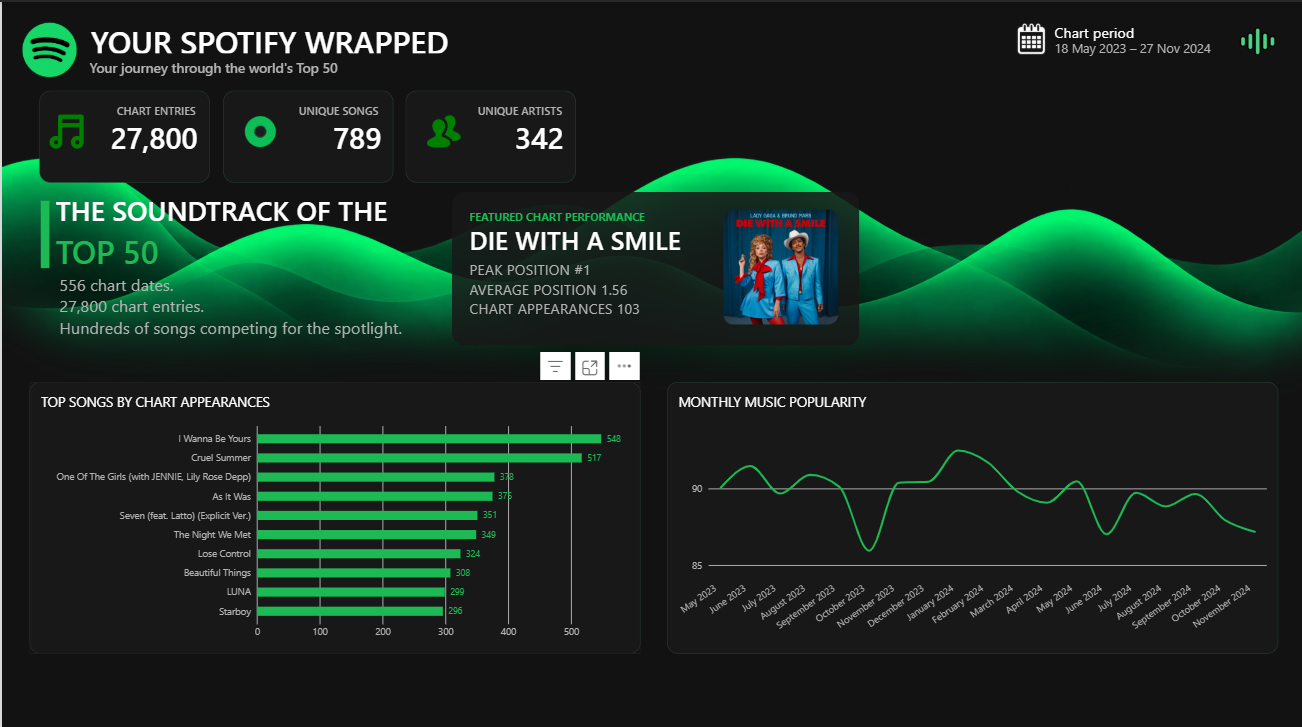

What the dashboard file says about the page in this screenshot:
{"tool":"powerbi","page":{"name":"Spotify Wrapped","canvas":[1920,1080],"ordinal":0},"visuals":[{"type":"image","box":[0,14.7,1919.6,649.7],"z":0},{"type":"textbox","title":"YOUR SPOTIFY WRAPPED","box":[130,28,650,48],"z":1000},{"type":"textbox","title":"Your journey through the world''s Top 50","box":[129.6,83.3,600,27.8],"z":2000},{"type":"cardVisual","fields":{"Data":["FactSpotifyChart.Total Chart Entries Display"]},"box":[55,130,250,135],"z":3000},{"type":"textbox","title":"CHART ENTRIES","box":[75,150,209.8,22.1],"z":4000},{"type":"cardVisual","fields":{"Data":["FactSpotifyChart.Unique Songs Display"]},"box":[325,130,250,135],"z":5000},{"type":"textbox","title":"UNIQUE SONGS","box":[345,150,210,22],"z":6000},{"type":"cardVisual","fields":{"Data":["FactSpotifyChart.Unique Artists Display"]},"box":[595,130,250,135],"z":7000},{"type":"textbox","title":"UNIQUE ARTISTS","box":[615,150,210,22],"z":8000},{"type":"shape","box":[57.1,292.6,12.9,99.4],"z":9000},{"type":"textbox","title":"THE SOUNDTRACK OF THE","box":[80,280,491.4,119.6],"z":10000},{"type":"textbox","box":[84.7,399.4,509.8,130.7],"z":11000},{"type":"shape","box":[662.6,279.8,600,226.4],"z":12000},{"type":"textbox","title":"FEATURED CHART PERFORMANCE","box":[687.7,305,490,30],"z":13000},{"type":"textbox","title":"DIE WITH A SMILE","box":[687.7,325,490,40],"z":14000},{"type":"textbox","box":[688.3,380,489.6,90.2],"z":15000},{"type":"clusteredBarChart","title":"TOP SONGS BY CHART APPEARANCES","fields":{"Category":["FactSpotifyChart.Song"],"Y":["Max(FactSpotifyChart.ChartAppearances)"]},"box":[40,560,900,400],"z":16000},{"type":"lineChart","title":"MONTHLY MUSIC POPULARITY","fields":{"Category":["DimDate.MonthYear"],"Y":["Avg(FactSpotifyChart.Popularity)"]},"box":[980,560,900,400],"z":17000},{"type":"image","box":[70,165,50,50],"z":18000},{"type":"image","box":[355,165,50,50],"z":19000},{"type":"image","box":[625,165,49.7,49.7],"z":20000},{"type":"image","box":[1062,305.5,169.3,169.3],"z":21000},{"type":"image","box":[0,0,140,140],"z":22000},{"type":"image","box":[1490,30,49.7,49.7],"z":23000},{"type":"textbox","box":[1550,30,200,30],"z":24000},{"type":"textbox","box":[1550,55,250,30],"z":25000},{"type":"image","box":[1818.4,27.6,60.7,60.7],"z":26000}]}

Visuals, with their boxes in screenshot pixels (x1, y1, x2, y2), scaled from the page's 1920x1080 canvas onto the 1302x727 screenshot:
image: <bbox>0, 10, 1301, 447</bbox>
"YOUR SPOTIFY WRAPPED" textbox: <bbox>88, 19, 529, 51</bbox>
"Your journey through the world''s Top 50" textbox: <bbox>88, 56, 495, 75</bbox>
cardVisual - FactSpotifyChart.Total Chart Entries Display: <bbox>37, 88, 207, 178</bbox>
"CHART ENTRIES" textbox: <bbox>51, 101, 193, 116</bbox>
cardVisual - FactSpotifyChart.Unique Songs Display: <bbox>220, 88, 390, 178</bbox>
"UNIQUE SONGS" textbox: <bbox>234, 101, 376, 116</bbox>
cardVisual - FactSpotifyChart.Unique Artists Display: <bbox>403, 88, 573, 178</bbox>
"UNIQUE ARTISTS" textbox: <bbox>417, 101, 559, 116</bbox>
shape: <bbox>39, 197, 47, 264</bbox>
"THE SOUNDTRACK OF THE" textbox: <bbox>54, 188, 387, 269</bbox>
textbox: <bbox>57, 269, 403, 357</bbox>
shape: <bbox>449, 188, 856, 341</bbox>
"FEATURED CHART PERFORMANCE" textbox: <bbox>466, 205, 799, 226</bbox>
"DIE WITH A SMILE" textbox: <bbox>466, 219, 799, 246</bbox>
textbox: <bbox>467, 256, 799, 317</bbox>
"TOP SONGS BY CHART APPEARANCES" clusteredBarChart: <bbox>27, 377, 637, 646</bbox>
"MONTHLY MUSIC POPULARITY" lineChart: <bbox>665, 377, 1275, 646</bbox>
image: <bbox>47, 111, 81, 145</bbox>
image: <bbox>241, 111, 275, 145</bbox>
image: <bbox>424, 111, 458, 145</bbox>
image: <bbox>720, 206, 835, 320</bbox>
image: <bbox>0, 0, 95, 94</bbox>
image: <bbox>1010, 20, 1044, 54</bbox>
textbox: <bbox>1051, 20, 1187, 40</bbox>
textbox: <bbox>1051, 37, 1221, 57</bbox>
image: <bbox>1233, 19, 1274, 59</bbox>
